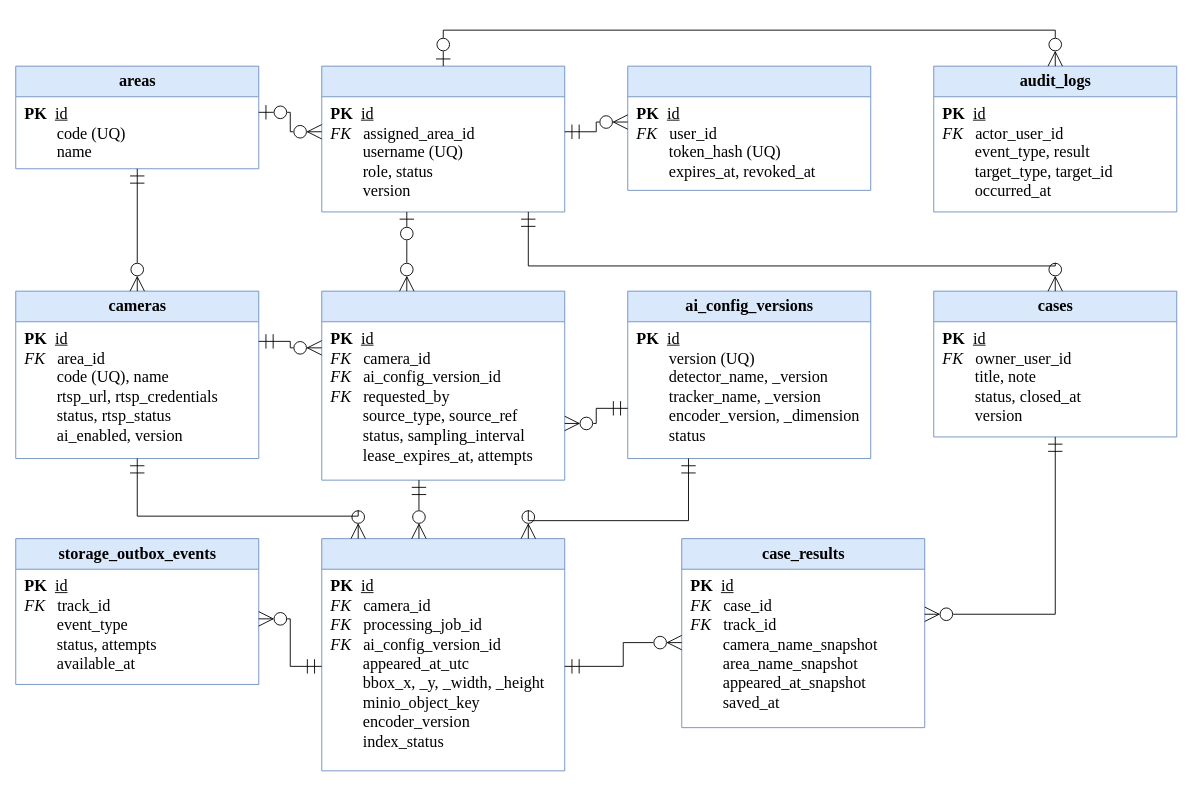
The diagram is 1193 pixels wide and 787 high, and some of its shapes have lost their labels. The shapes that lost their labels are listed below. From the top down, each one's box as (x1, y1, x2, y2) in pixels, then its label:
(321, 65, 565, 212): users
(627, 65, 871, 190): auth_sessions
(321, 290, 565, 480): processing_jobs
(321, 538, 565, 771): person_tracks
